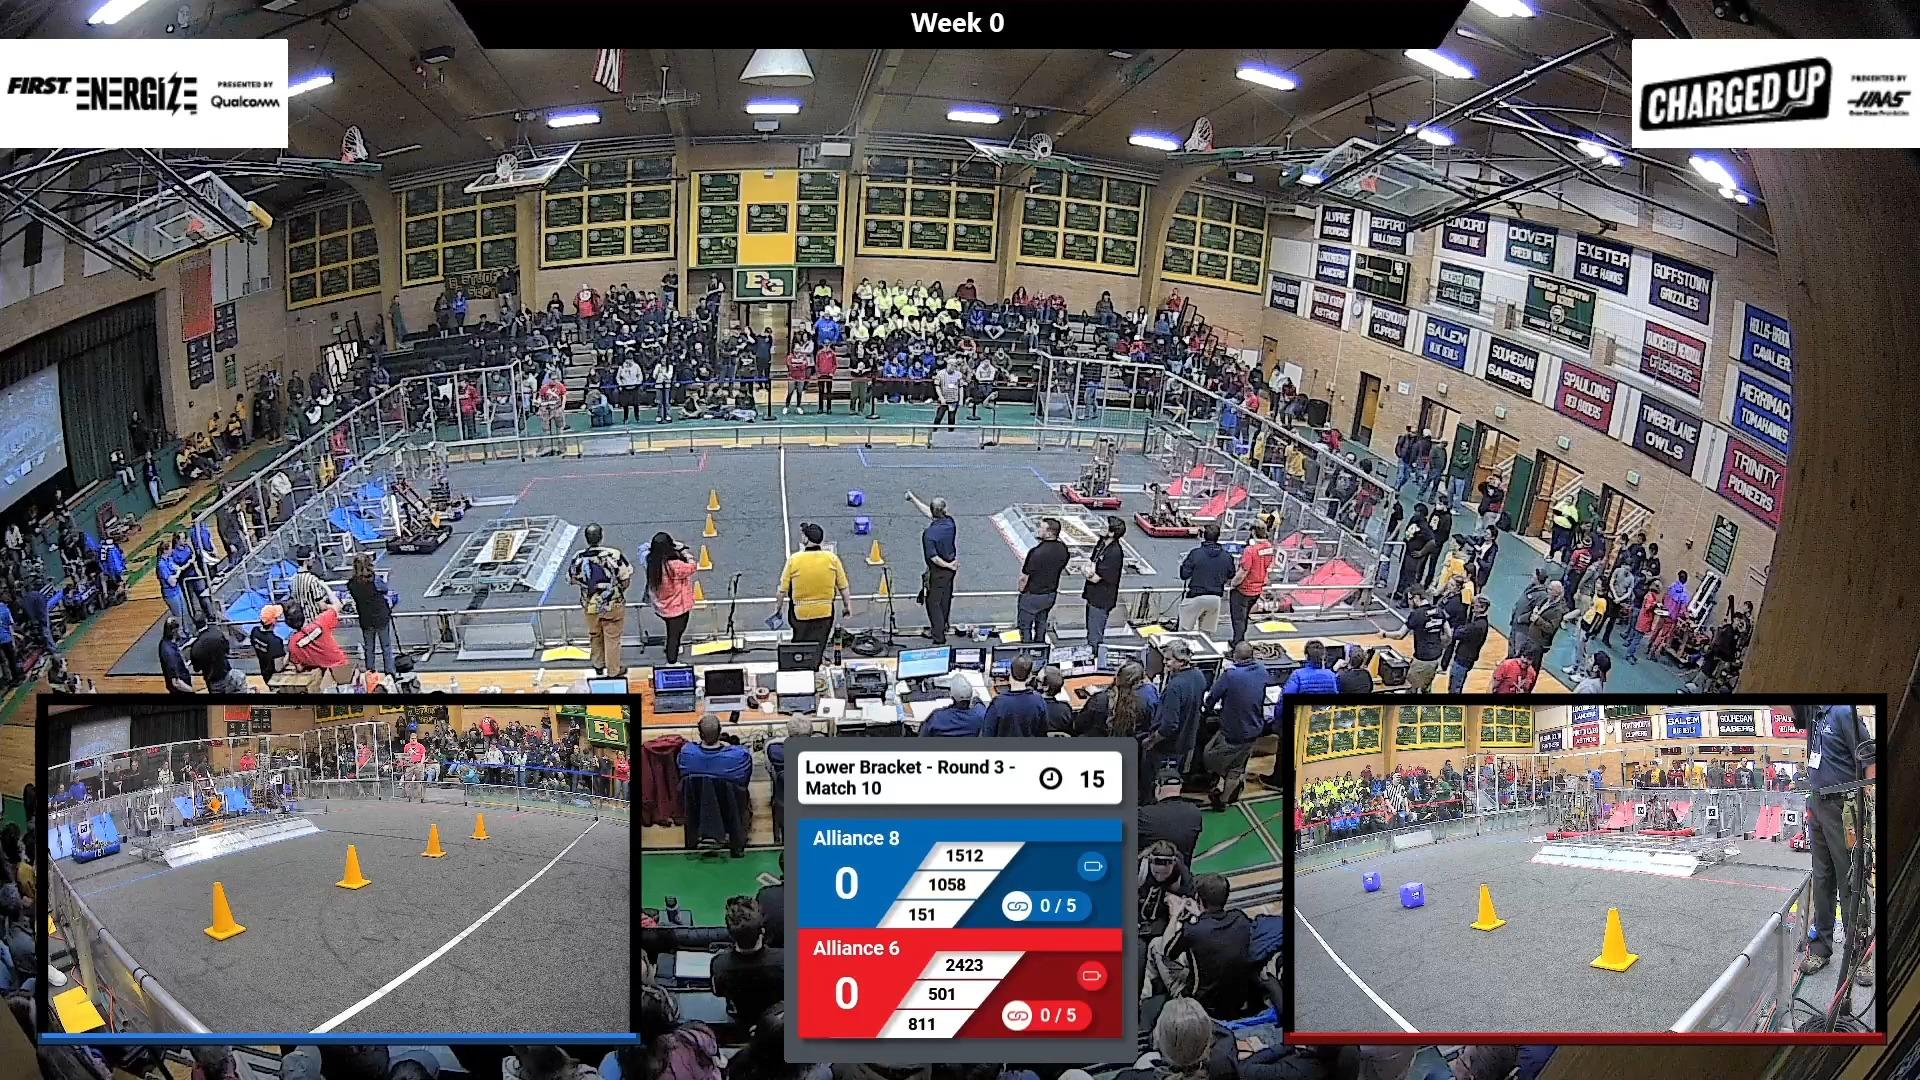robot: (376, 481, 451, 560), (328, 562, 406, 633), (406, 452, 477, 526), (1130, 480, 1208, 538), (1060, 446, 1127, 512), (1229, 550, 1299, 613)
